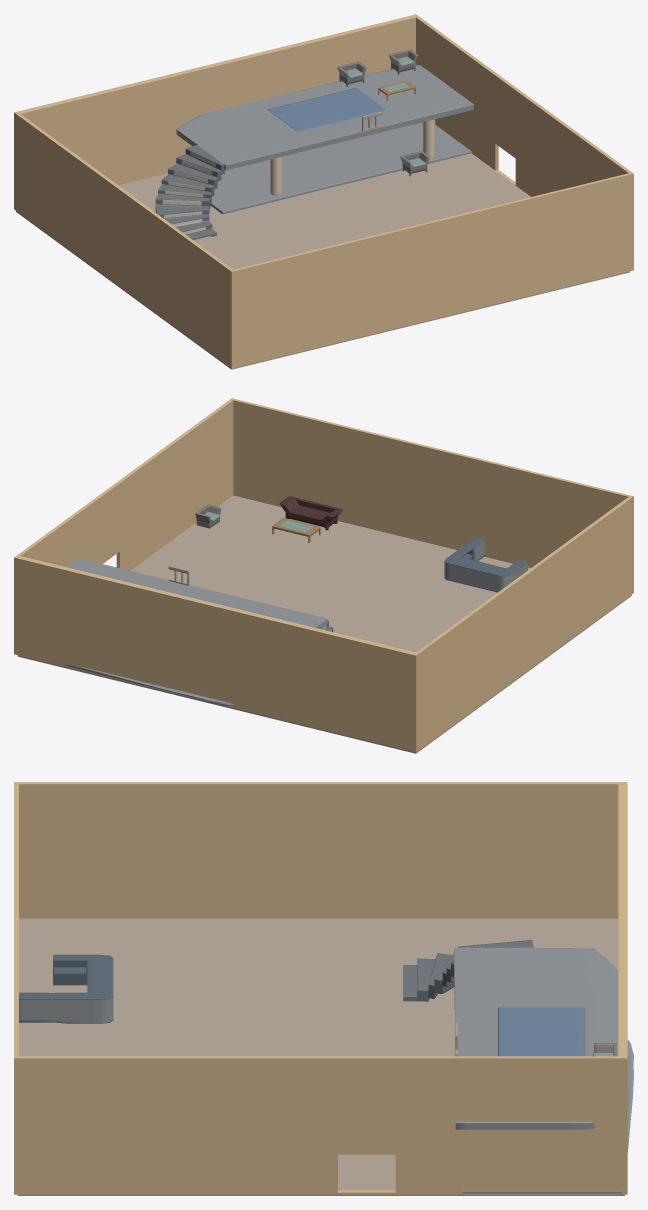
Rendered from UpdatedLobby.fbx.
3 views of the same model, one above another, from view 1: azimuth 30°, elevation 25°; view 2: azimuth 150°, elevation 25°; view 3: azimuth 270°, elevation 25° (orthographic). The views are drawn at different scales.
Parts seen in each view (by area): view 1: polySurface78, polySurface75, polySurface108, polySurface110, polySurface109, polySurface107, polySurface136, polySurface115, polySurface138; view 2: polySurface78, polySurface75, polySurface108, polySurface120, polySurface124, polySurface110, polySurface122; view 3: polySurface78, polySurface75, polySurface108, polySurface120, polySurface107, polySurface109, polySurface110.
Part boxes in pixels (x1,y1,x2,y2): polySurface78: [14, 14, 633, 368]; polySurface75: [16, 153, 629, 369]; polySurface108: [176, 65, 473, 170]; polySurface110: [210, 122, 471, 214]; polySurface109: [155, 145, 224, 241]; polySurface107: [267, 88, 386, 131]; polySurface136: [337, 61, 366, 86]; polySurface115: [400, 151, 429, 176]; polySurface138: [388, 49, 417, 74]; polySurface78: [14, 398, 633, 752]; polySurface75: [17, 495, 631, 753]; polySurface108: [66, 558, 327, 627]; polySurface120: [444, 537, 527, 592]; polySurface124: [279, 496, 343, 530]; polySurface110: [65, 664, 233, 706]; polySurface122: [272, 518, 320, 542]; polySurface78: [14, 782, 627, 1194]; polySurface75: [17, 918, 624, 1195]; polySurface108: [454, 947, 618, 1129]; polySurface120: [19, 954, 113, 1023]; polySurface107: [498, 1007, 584, 1056]; polySurface109: [403, 940, 533, 1001]; polySurface110: [462, 1039, 633, 1193].
Size of the model in its own units: 71.8 by 17.29 by 67.79.
